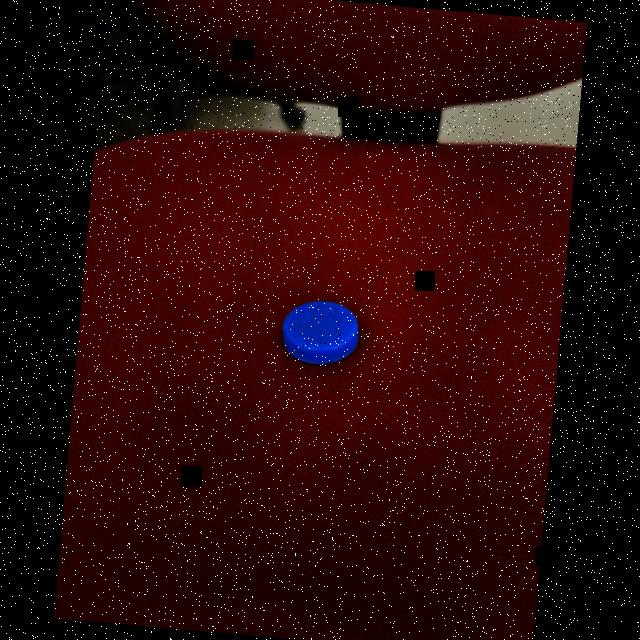plastic_bottle_cap: (274, 285, 371, 373)
